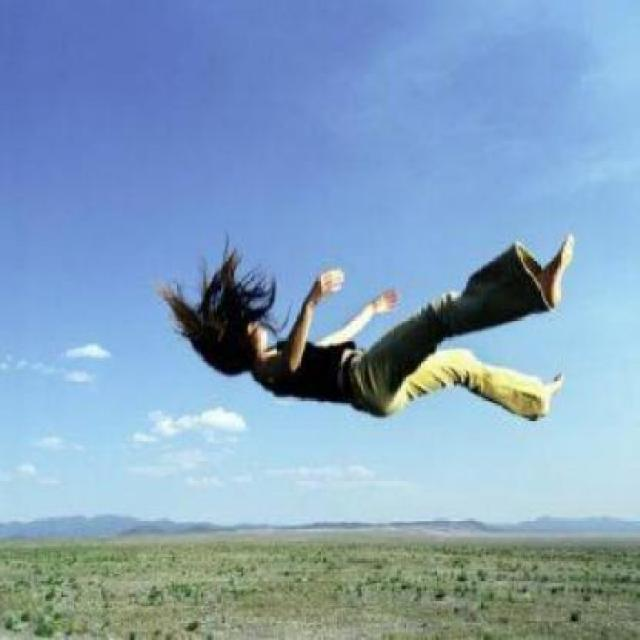fall: (173, 226, 578, 429)
